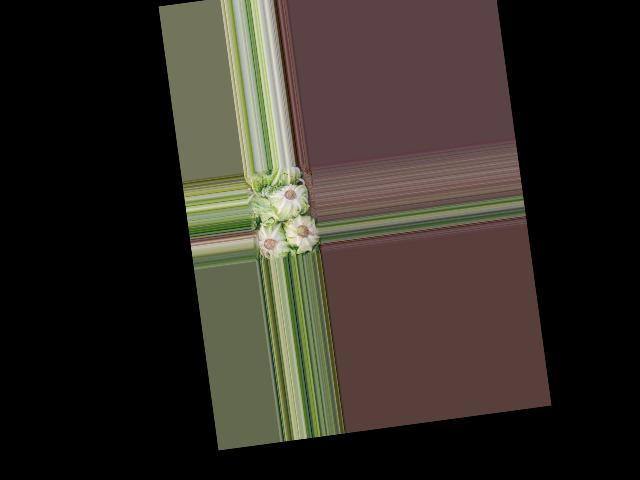lettuce: (255, 221, 290, 260)
